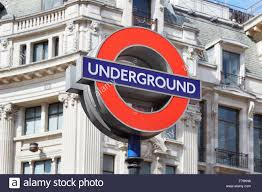London Underground: (81, 28, 200, 132)
